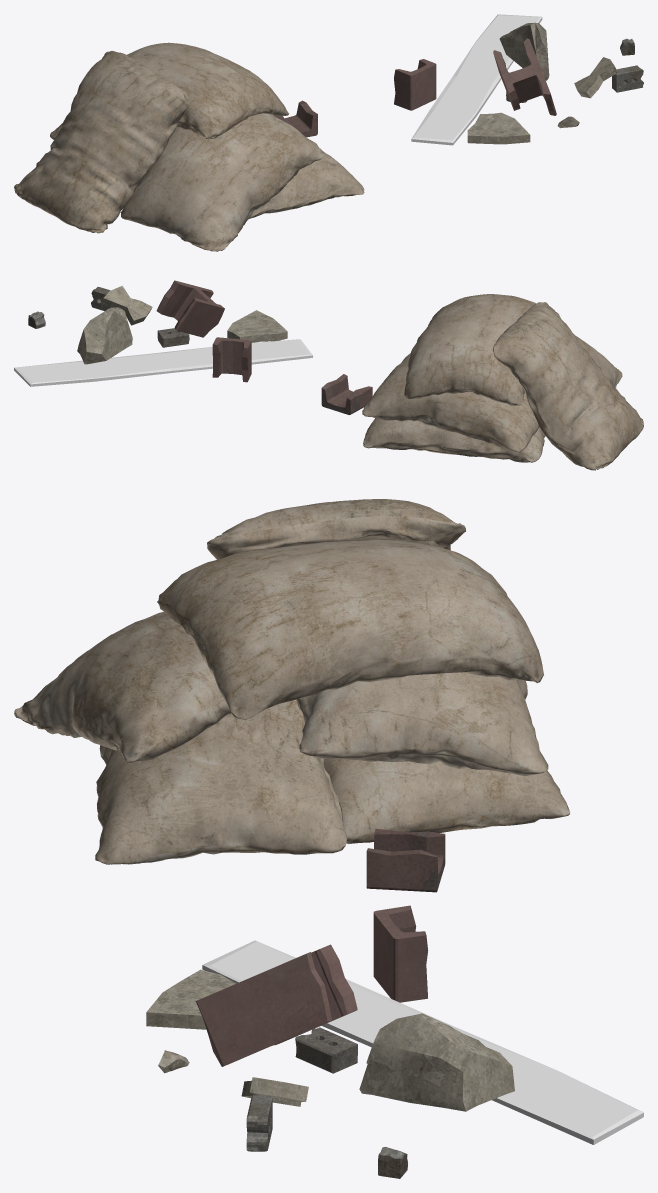
Rendered from SackPile.fbx.
The picture shows the model from 3 angles, top to bottom: view 1: azimuth 30°, elevation 25°; view 2: azimuth 150°, elevation 25°; view 3: azimuth 270°, elevation 25°; orthographic projection. The views are drawn at different scales.
Parts seen in each view (by area): view 1: SackPile; view 2: SackPile; view 3: SackPile.
Part boxes in pixels (x1,y1,x2,y2): SackPile: [14, 14, 643, 251]; SackPile: [14, 280, 643, 470]; SackPile: [14, 499, 643, 1178].
Bounding box in the file's own units: 2.36 × 0.4361 × 1.14.
